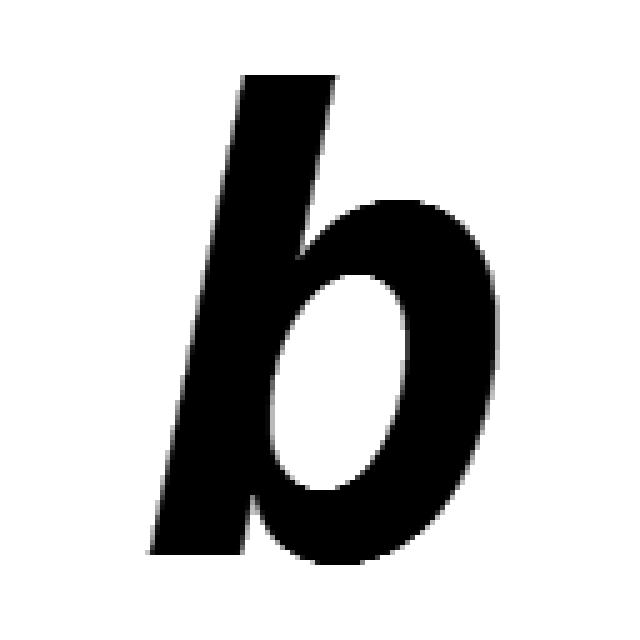B: (150, 75, 500, 570)
